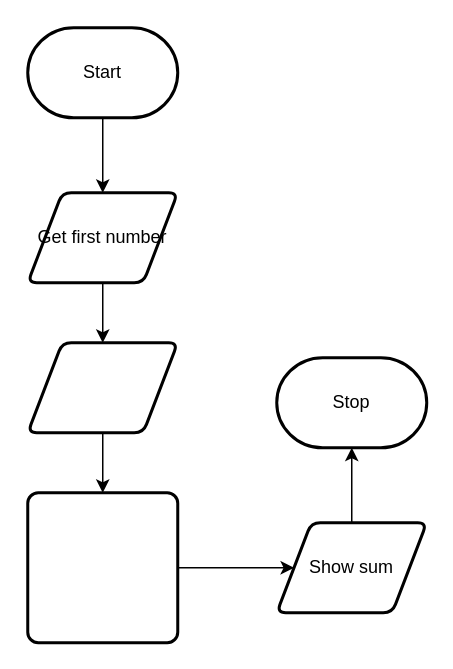
This 453x669 diagram has some shape labels left out. The shapes that lost their labels are listed below. From the top down, each one's centre as x and y in pixels, then its label:
the point at 102,387: Get second number
the point at 102,567: sum = first number + second number
